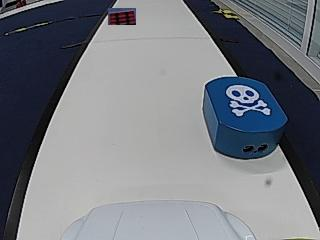danger: (227, 85, 267, 118)
